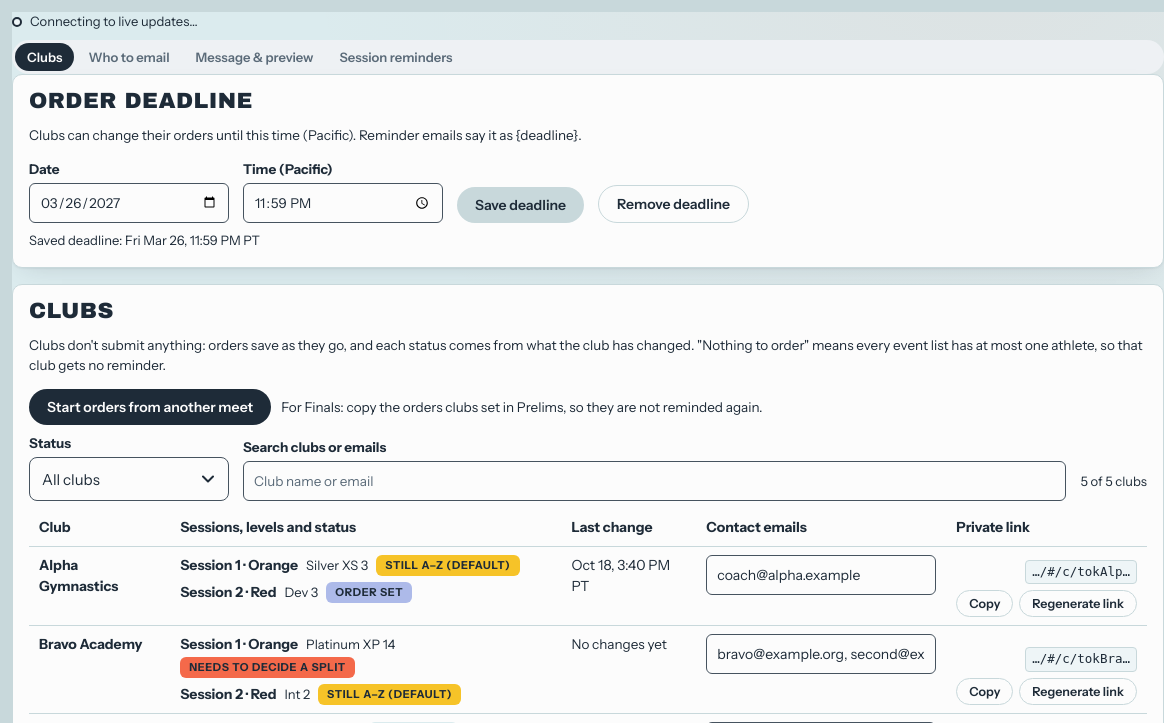
Test case: Sending (test mode, Gmail mocked) › has a disabled real-send control with the note, and send needs a Gmail connection
This screenshot has width=1164, height=723.
Expected: the heading "Clubs" is shown, [29,299,114,323]
Click the button "Who to email" at (129, 56), box [76,42,182,70]
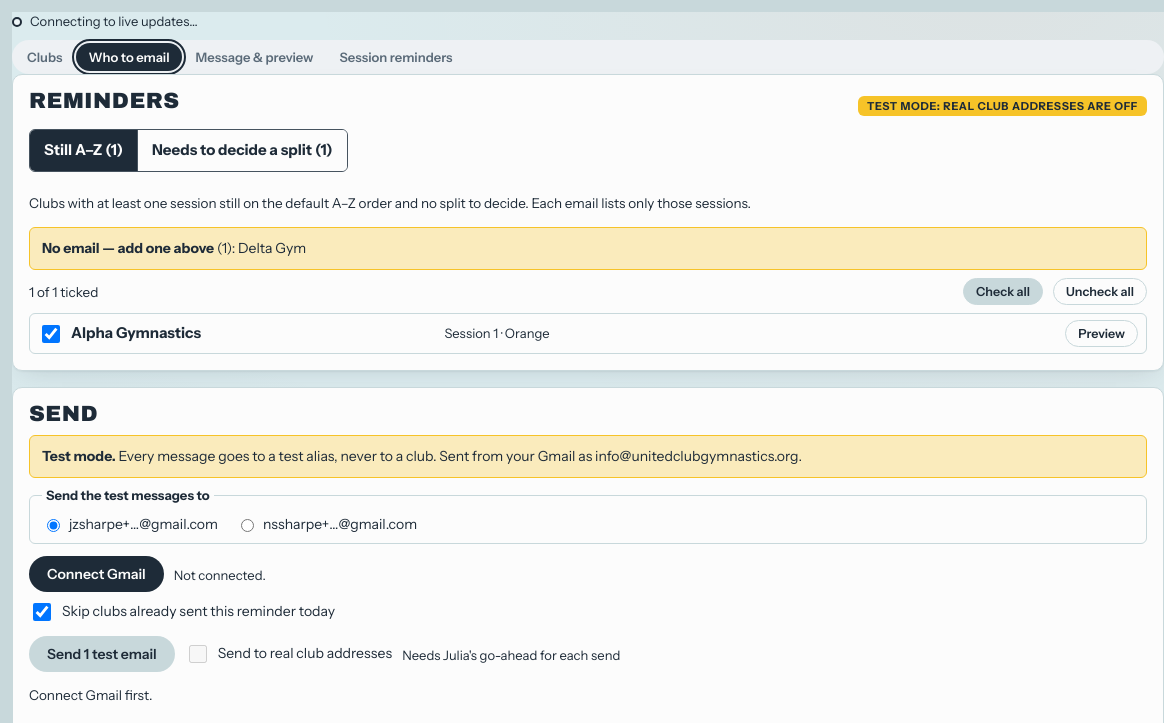
Now the checkbox labelled "Send to real club addresses" is disabled, box [189,644,207,662]
Now the text "Needs Julia's go-ahead for each send" is shown, box [402,646,620,665]
Now the button "Send 1 test email" is disabled, box [29,636,175,672]
